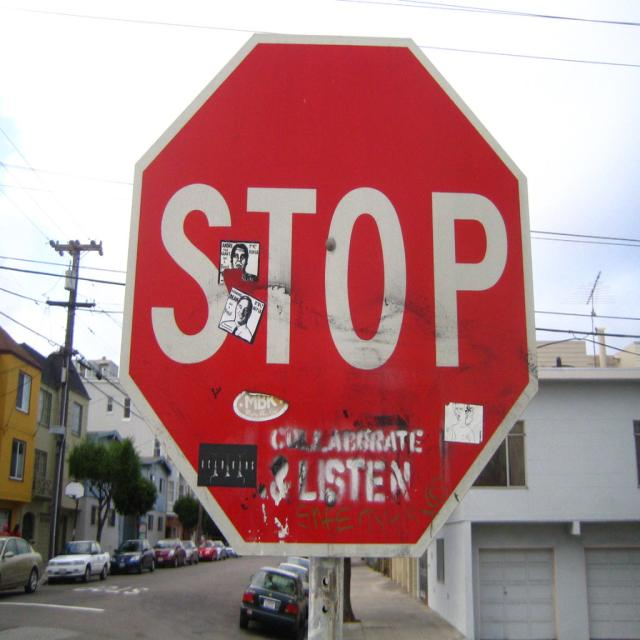Stop-sign: (118, 30, 539, 558)
